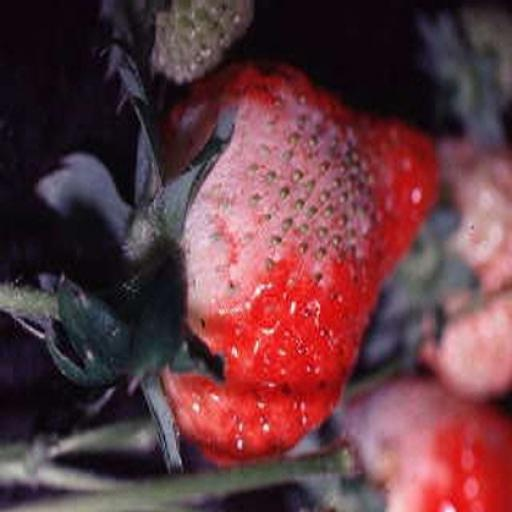Powdery Mildew Fruit: (68, 43, 381, 450), (254, 428, 369, 511)
